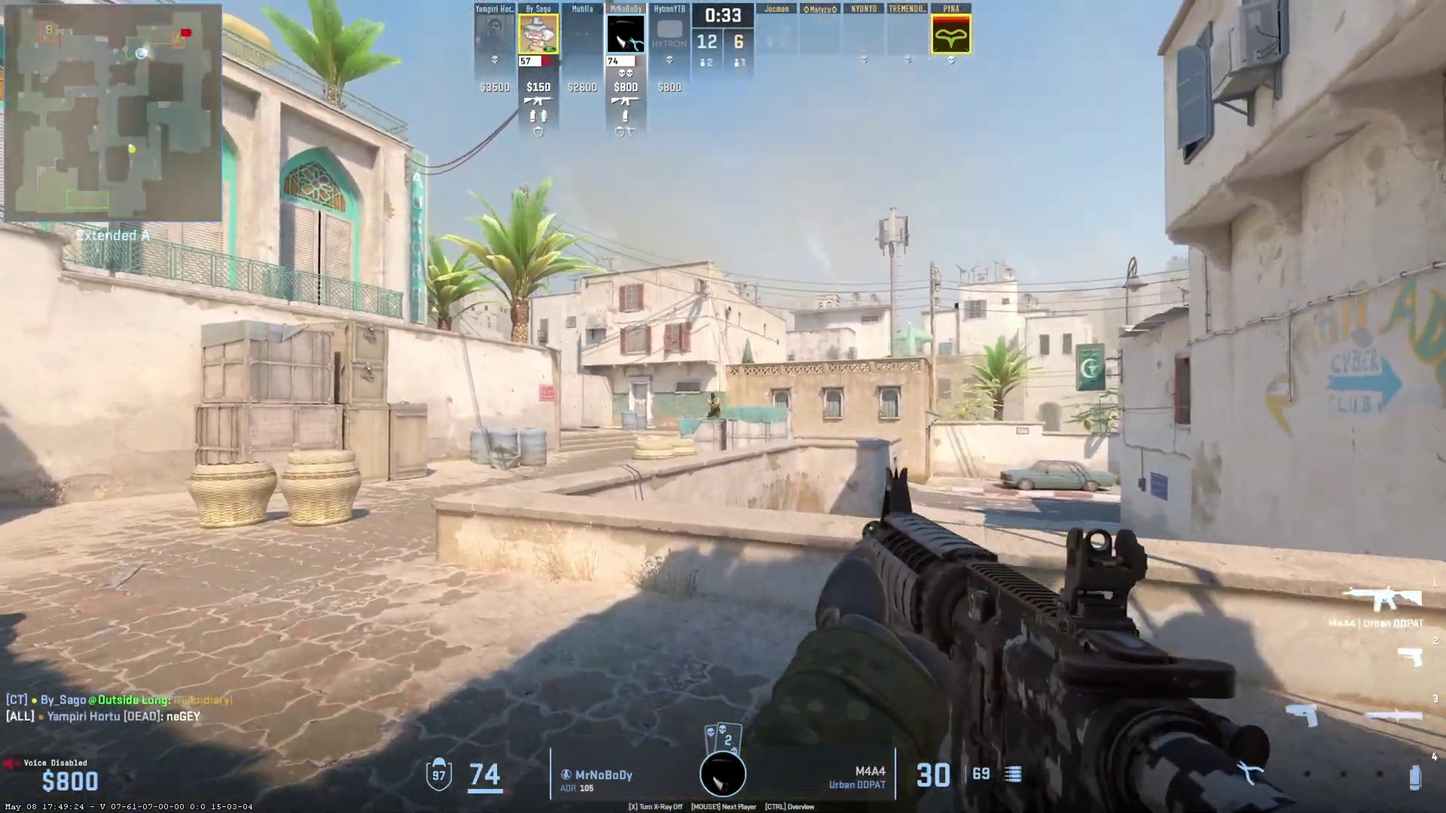Terrorist: (702, 388, 723, 418)
